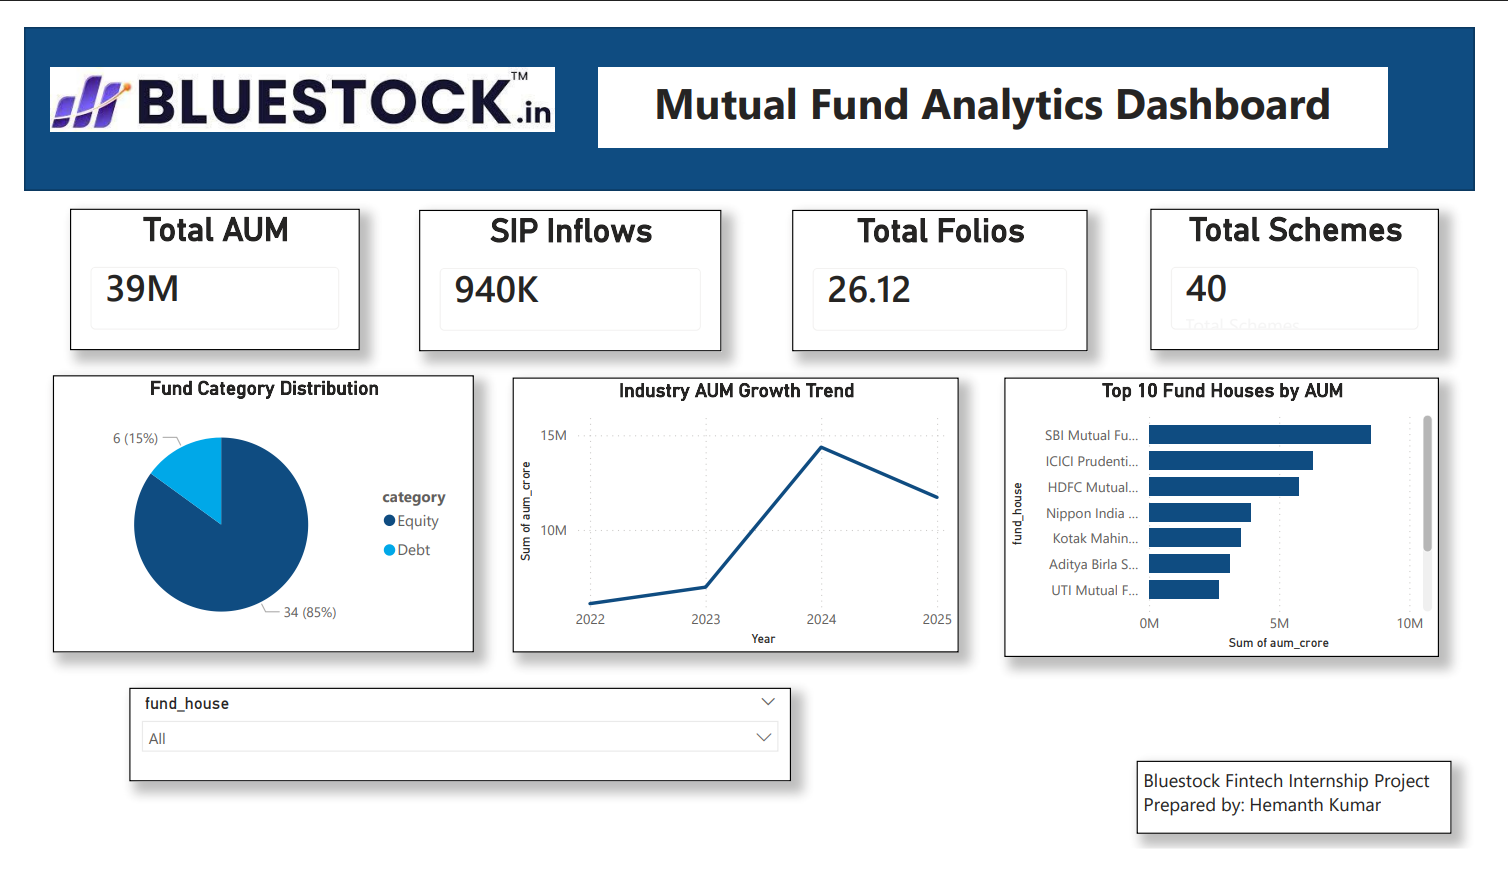

The page's visual inventory and layout, read from the dashboard file:
{"tool":"powerbi","page":{"name":"Industry Overview","canvas":[1280,720],"ordinal":0},"visuals":[{"type":"shape","box":[0,0,1270.7,142.7],"z":0},{"type":"textbox","box":[502.6,34.8,692.3,71],"z":1000},{"type":"cardVisual","title":"Total AUM","fields":{"Data":["03_aum_by_fund_house.Total AUM KPI"]},"box":[39.8,159.2,253.9,123.5],"z":2000},{"type":"cardVisual","title":"SIP Inflows","fields":{"Data":["04_monthly_sip_inflows.Latest SIP Inflow"]},"box":[345.6,159.9,265,123.9],"z":3000},{"type":"cardVisual","title":"Total Folios","fields":{"Data":["06_industry_folio_count.Total Folios"]},"box":[672.5,159.9,259.2,123.9],"z":4000},{"type":"cardVisual","title":"Total Schemes","fields":{"Data":["01_fund_master.Total Schemes"]},"box":[986.6,159.2,253.9,123.5],"z":5000},{"type":"lineChart","title":"Industry AUM Growth Trend","fields":{"Category":["03_aum_by_fund_house.date.Variation.Date Hierarchy.Year","03_aum_by_fund_house.date.Variation.Date Hierarchy.Month"],"Y":["Sum(03_aum_by_fund_house.aum_crore)"]},"box":[428.1,307.4,391.1,240.1],"z":6000},{"type":"clusteredBarChart","title":"Top 10 Fund Houses by AUM","fields":{"Category":["03_aum_by_fund_house.fund_house"],"Y":["Sum(03_aum_by_fund_house.aum_crore)"]},"box":[859,307.4,381.5,244.3],"z":7000},{"type":"pieChart","title":"Fund Category Distribution","fields":{"Category":["01_fund_master.category"],"Y":["CountNonNull(01_fund_master.amfi_code)"]},"box":[24.7,304.6,369.1,242.9],"z":8000},{"type":"slicer","fields":{"Values":["01_fund_master.fund_house"]},"box":[91.9,579.1,580.4,82.3],"z":9000},{"type":"textbox","box":[975.3,642.5,275.9,64.1],"z":10000}]}

Visuals, with their boxes in screenshot pixels (x1, y1, x2, y2), scaled from the page's 1280x720 canvas onto the 1508x873 screenshot:
shape: [0,0,1497,173]
textbox: [592,42,1408,128]
"Total AUM" cardVisual: [47,193,346,343]
"SIP Inflows" cardVisual: [407,194,719,344]
"Total Folios" cardVisual: [792,194,1098,344]
"Total Schemes" cardVisual: [1162,193,1461,343]
"Industry AUM Growth Trend" lineChart: [504,373,965,664]
"Top 10 Fund Houses by AUM" clusteredBarChart: [1012,373,1461,669]
"Fund Category Distribution" pieChart: [29,369,464,664]
slicer - 01_fund_master.fund_house: [108,702,792,802]
textbox: [1149,779,1474,857]
